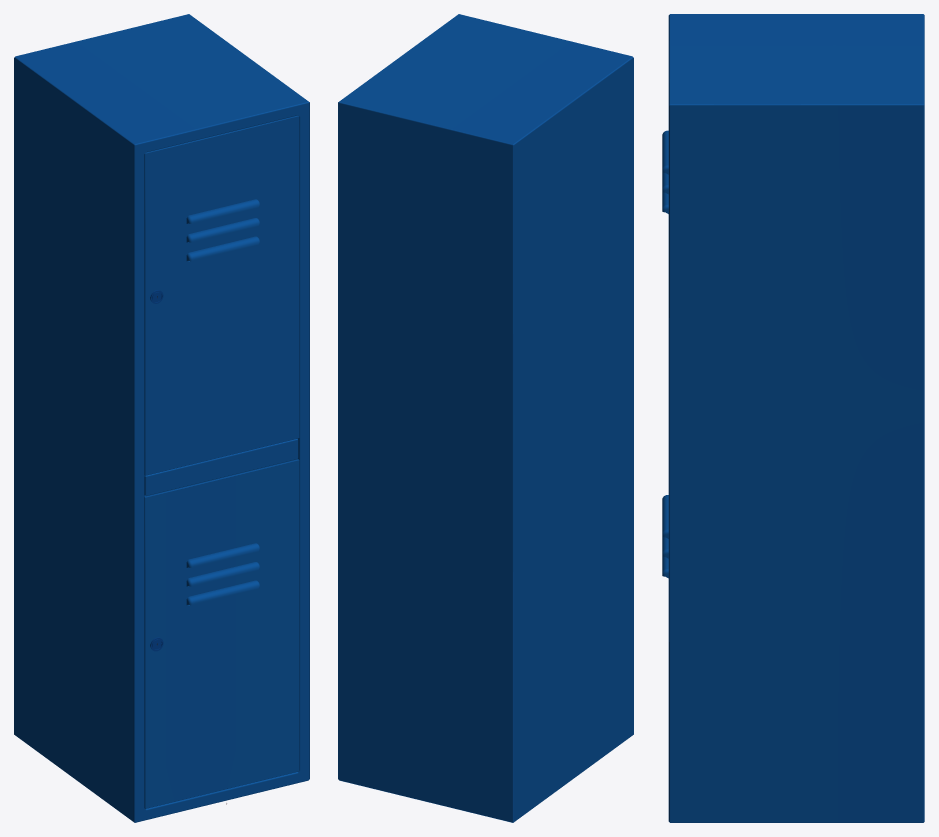
The model's file is SM_Locker_Doors_2Up_Closed_Blue.fbx.
3 views of the same model, side by side, from view 1: azimuth 30°, elevation 25°; view 2: azimuth 150°, elevation 25°; view 3: azimuth 270°, elevation 25° (orthographic). The views are drawn at different scales.
Parts seen in each view (by area): view 1: SM_Locker_Doors_2Up_Closed_Blue; view 2: SM_Locker_Doors_2Up_Closed_Blue; view 3: SM_Locker_Doors_2Up_Closed_Blue.
Part boxes in pixels (bbox=[...]): SM_Locker_Doors_2Up_Closed_Blue: bbox=[14, 14, 309, 822]; SM_Locker_Doors_2Up_Closed_Blue: bbox=[338, 14, 633, 822]; SM_Locker_Doors_2Up_Closed_Blue: bbox=[662, 14, 924, 822].
Bounding box in the file's own units: 58.47 × 217 × 71.27.
